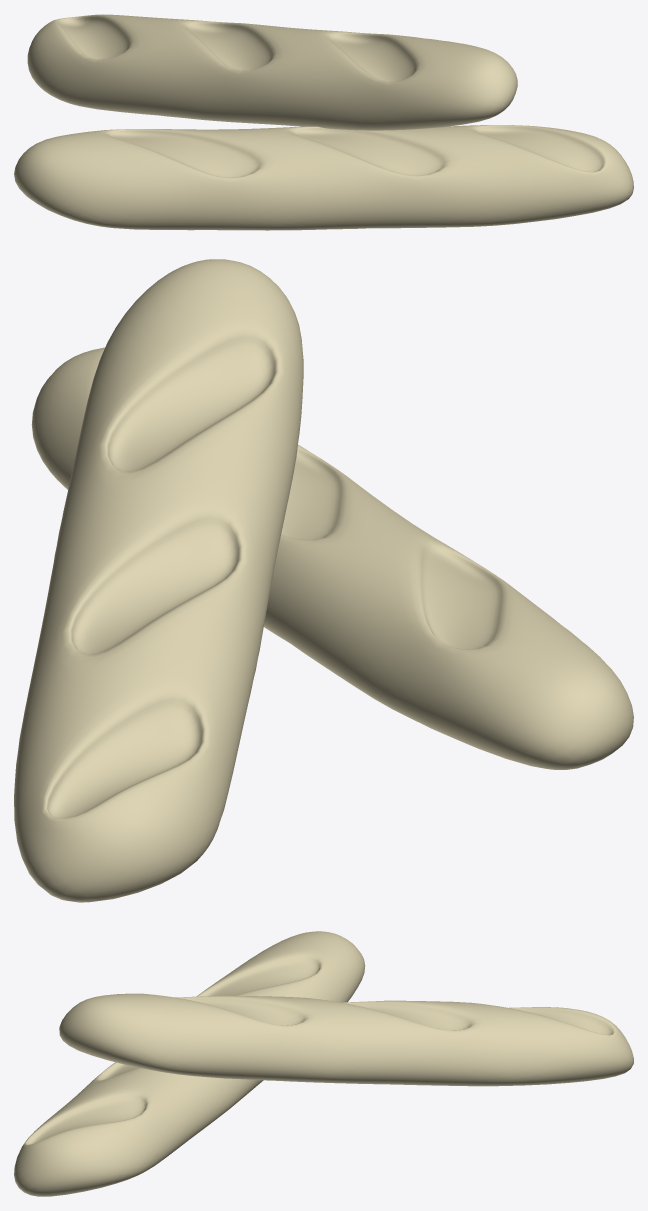
File: bageta.fbx
3 renders of one model, top to bottom at view 1: azimuth 30°, elevation 25°; view 2: azimuth 150°, elevation 25°; view 3: azimuth 270°, elevation 25°, orthographic. The views are drawn at different scales.
Visible parts, largest first — view 1: Cube.014; view 2: Cube.014; view 3: Cube.014.
Part boxes in pixels (x1,y1,x2,y2): Cube.014: (14, 14, 633, 230); Cube.014: (14, 259, 633, 902); Cube.014: (14, 931, 633, 1196).
Size of the model in its own units: 390 by 123 by 442.
